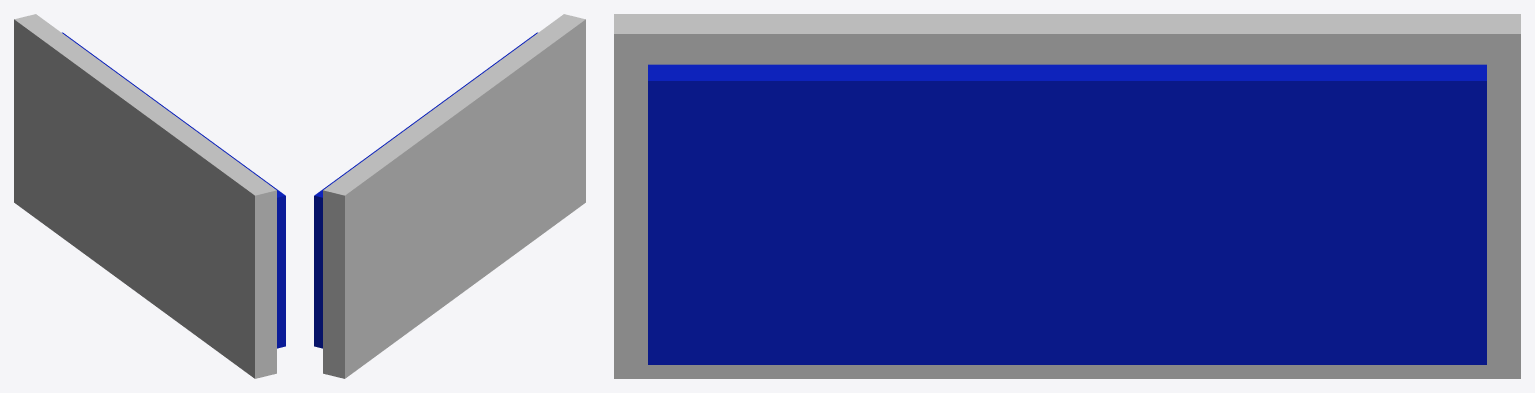
Rendered from sign2.fbx.
3 renders of one model, left to right at view 1: azimuth 30°, elevation 25°; view 2: azimuth 150°, elevation 25°; view 3: azimuth 270°, elevation 25°, orthographic. The views are drawn at different scales.
Parts seen in each view (by area): view 1: Cube; view 2: Cube; view 3: Cube.
Boxes of the visible parts, box(x1,y1,x2,y2) form: Cube: box(14, 14, 285, 378); Cube: box(314, 14, 585, 378); Cube: box(614, 14, 1520, 378).
Bounding box in the file's own units: 45.38 × 200 × 476.
